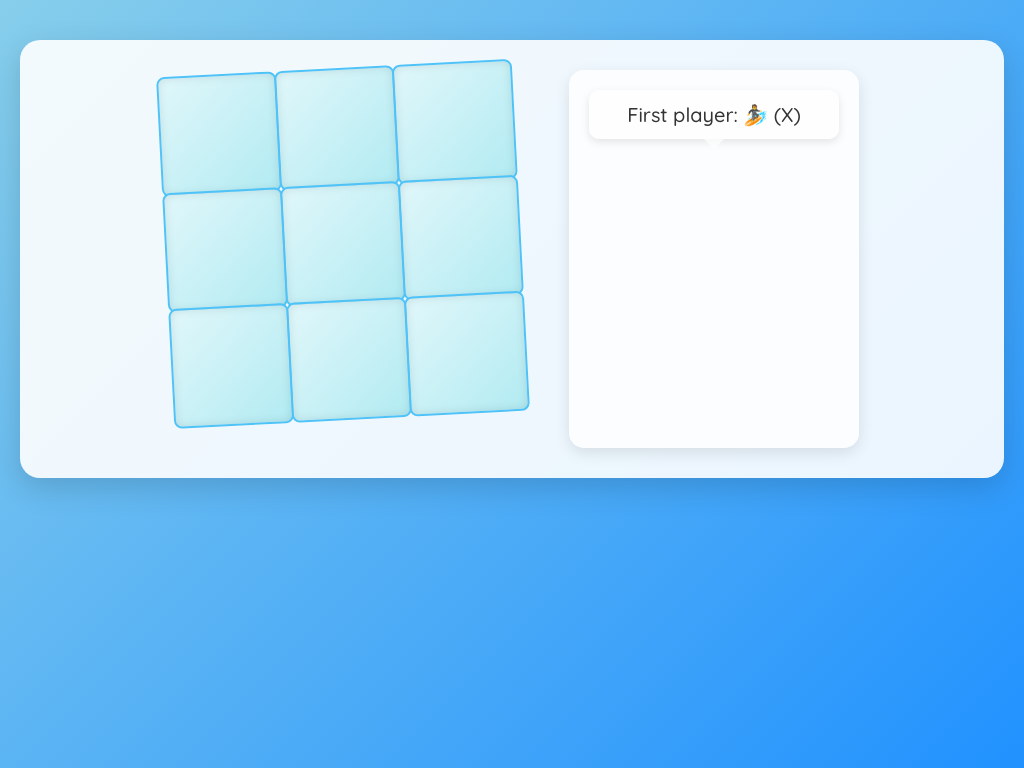
Test: Game Component › updates the board when a square is clicked
The width and height of the screenshot is (1024, 768).
Expected: the 2nd button is empty, x1=274 y1=65 x2=400 y2=191
Expected: the 3rd button is empty, x1=392 y1=59 x2=518 y2=185
# Click the first square
Click the 1st button: x=219, y=134 x1=156 y1=71 x2=282 y2=197
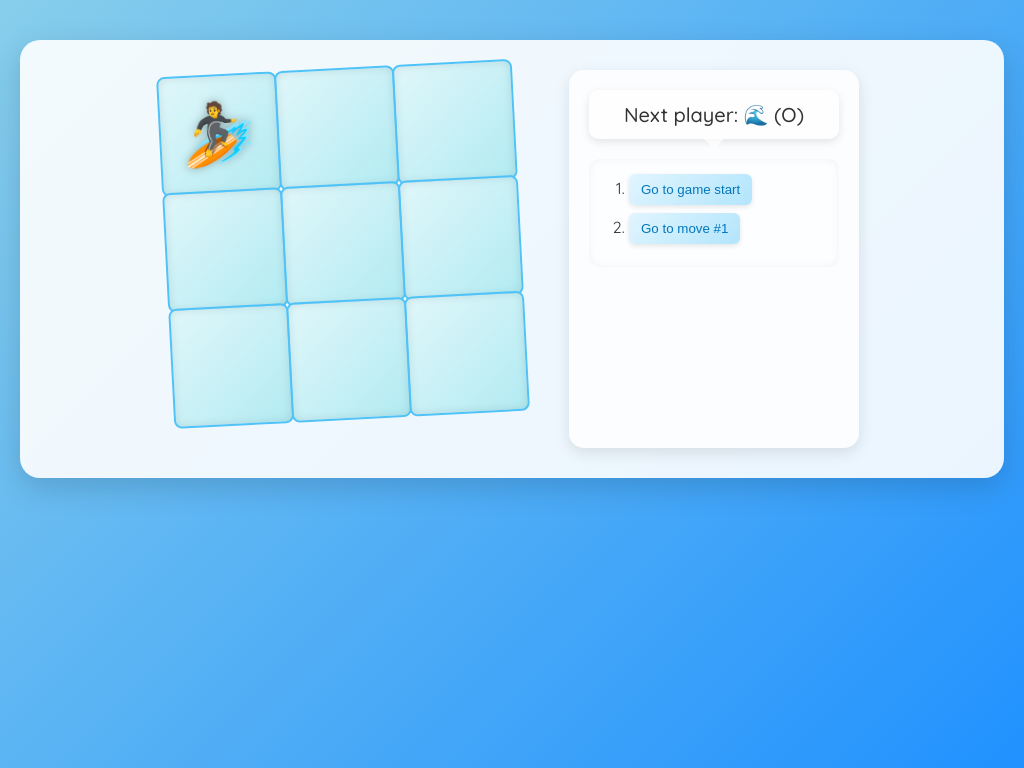
Expected: the text "Next player: 🌊 (O)" is shown, x1=589 y1=90 x2=839 y2=139
